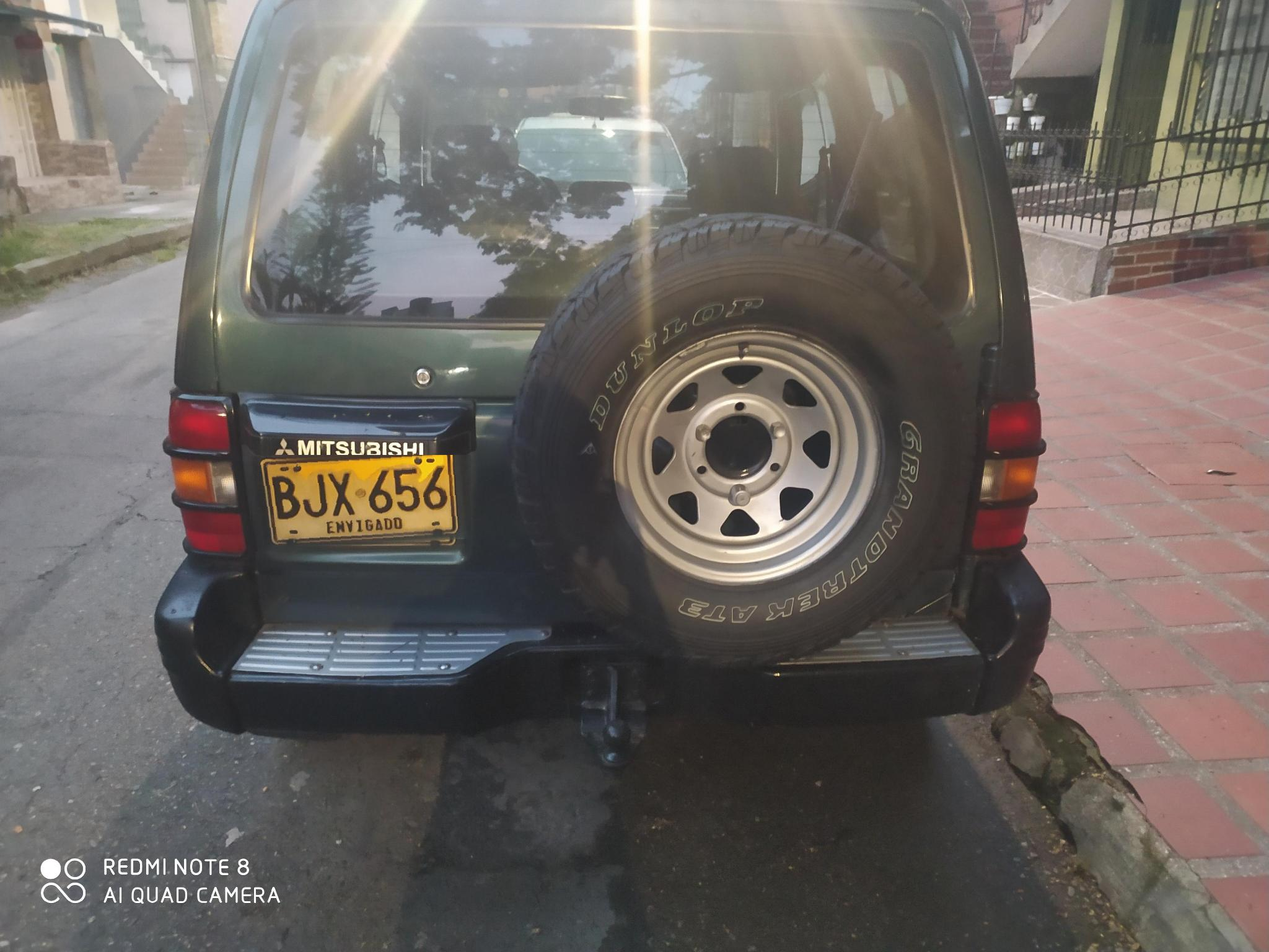placa: (249, 455, 471, 552)
